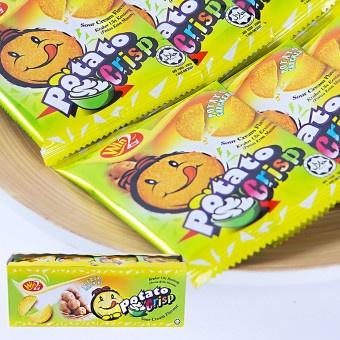snack: (52, 78, 340, 286), (0, 0, 207, 168)
